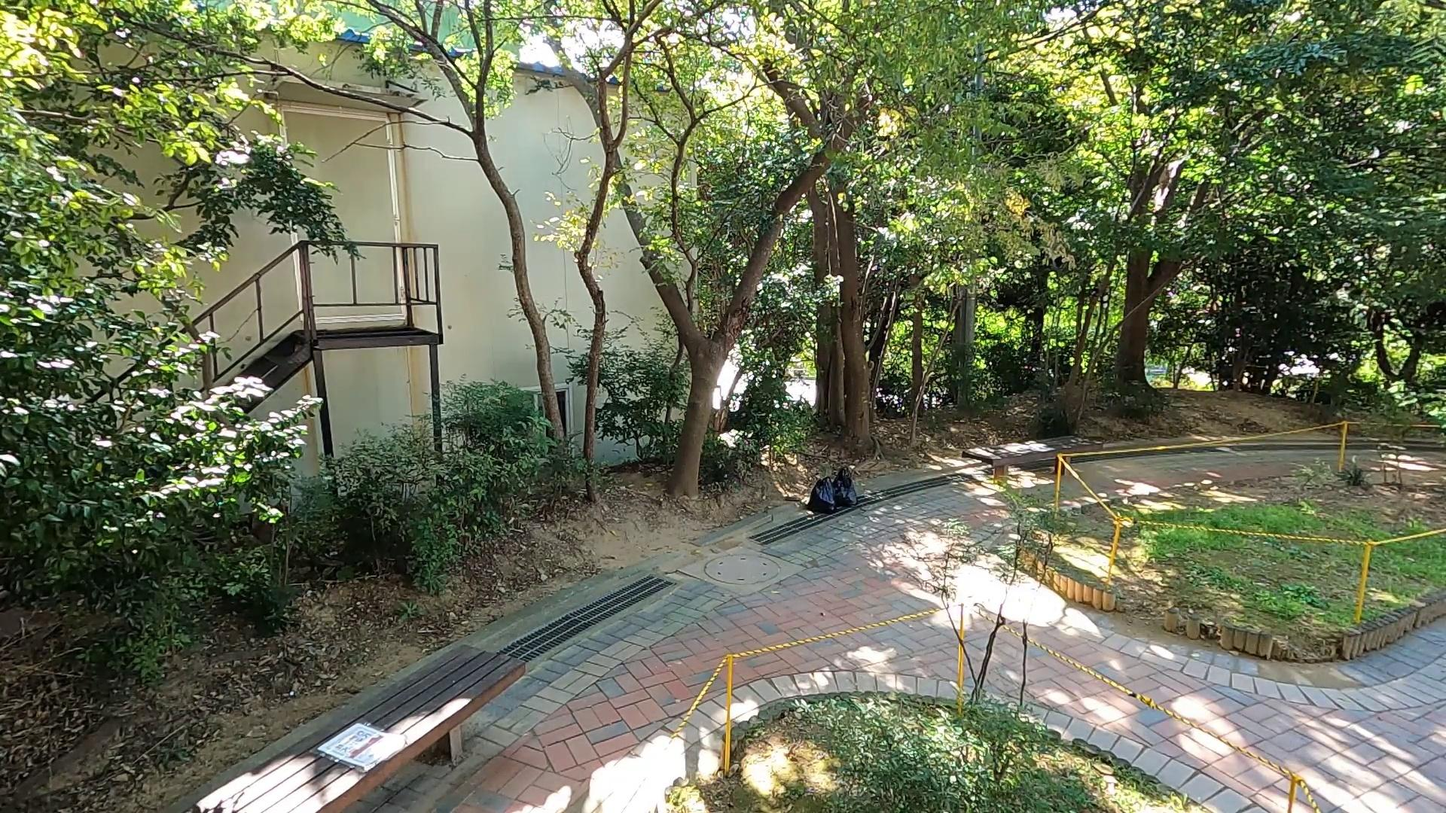trash: (804, 470, 836, 515), (831, 462, 859, 511)
